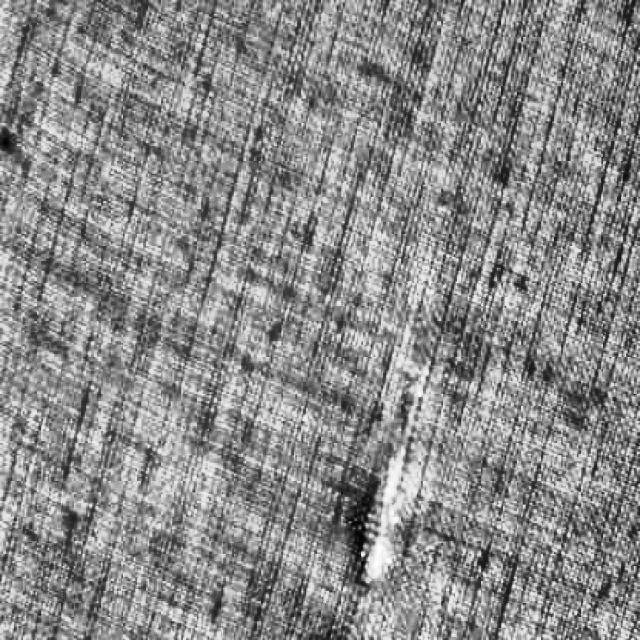thread_error: (326, 333, 457, 592)
